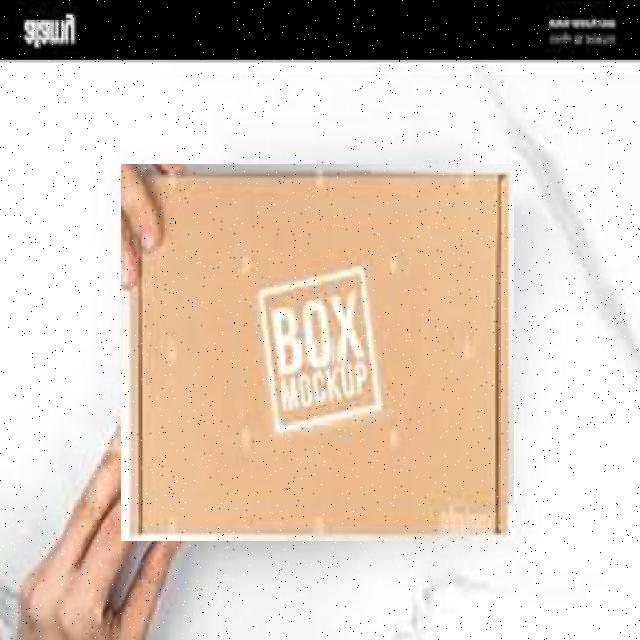normal: (121, 163, 514, 540)
